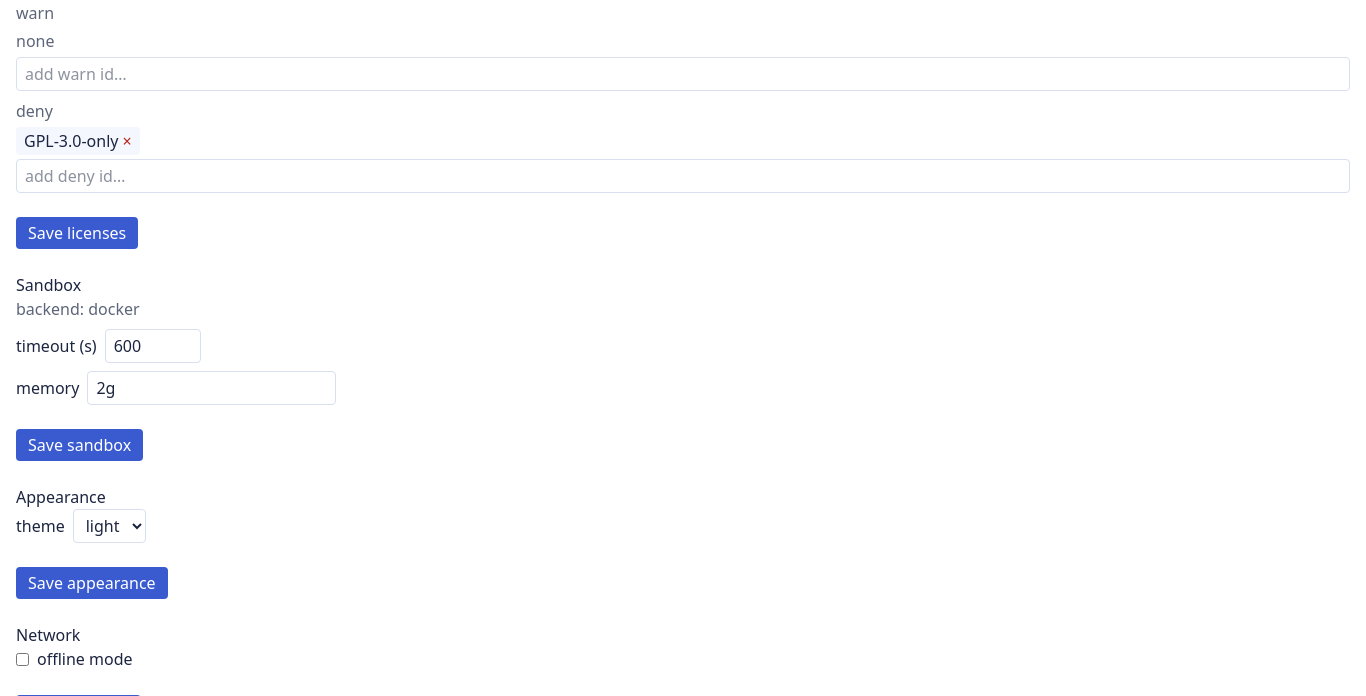
it: SettingsPage › validates
(page scrolled)
Expected: the element named "sandbox settings" is shown, [16,274,336,405]
Replace the text in the number field labelled "timeout" with "-5" at [153, 346], box [105,329,201,363]
(page scrolled)
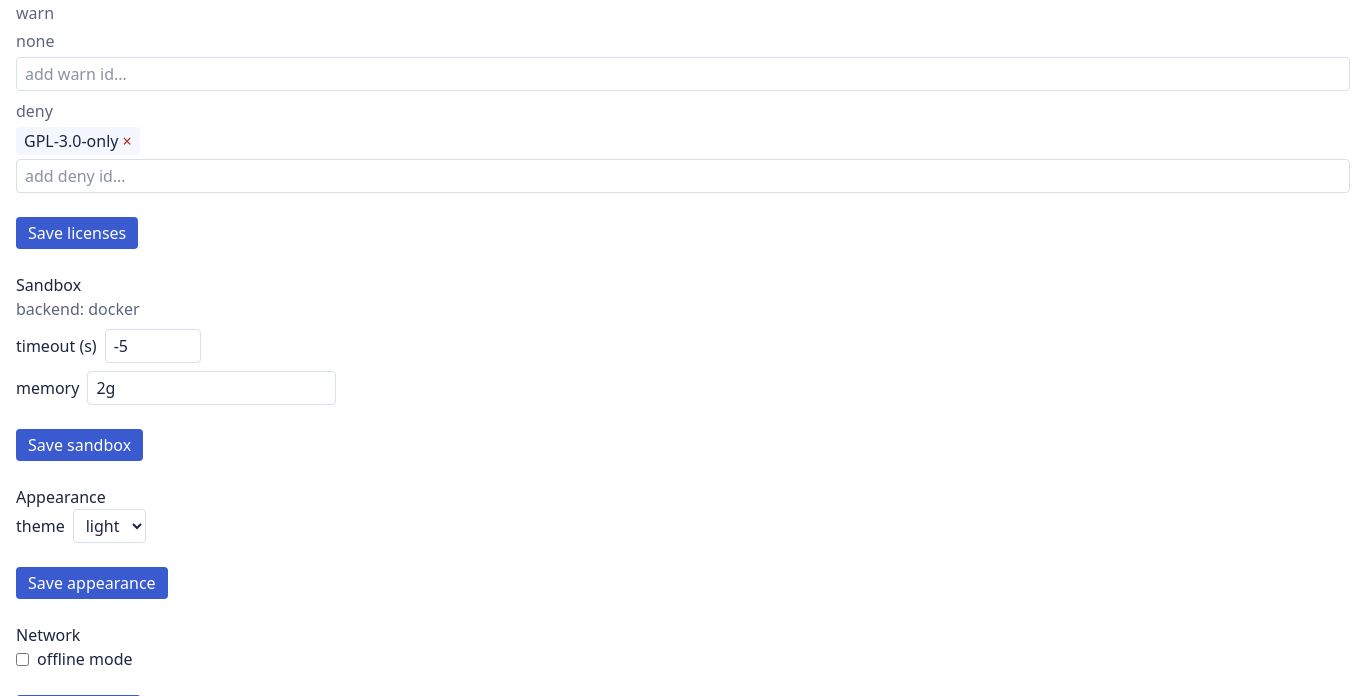
Click the button with test id "save-sandbox" at [80, 445], box [16,429,143,461]
(page scrolled)
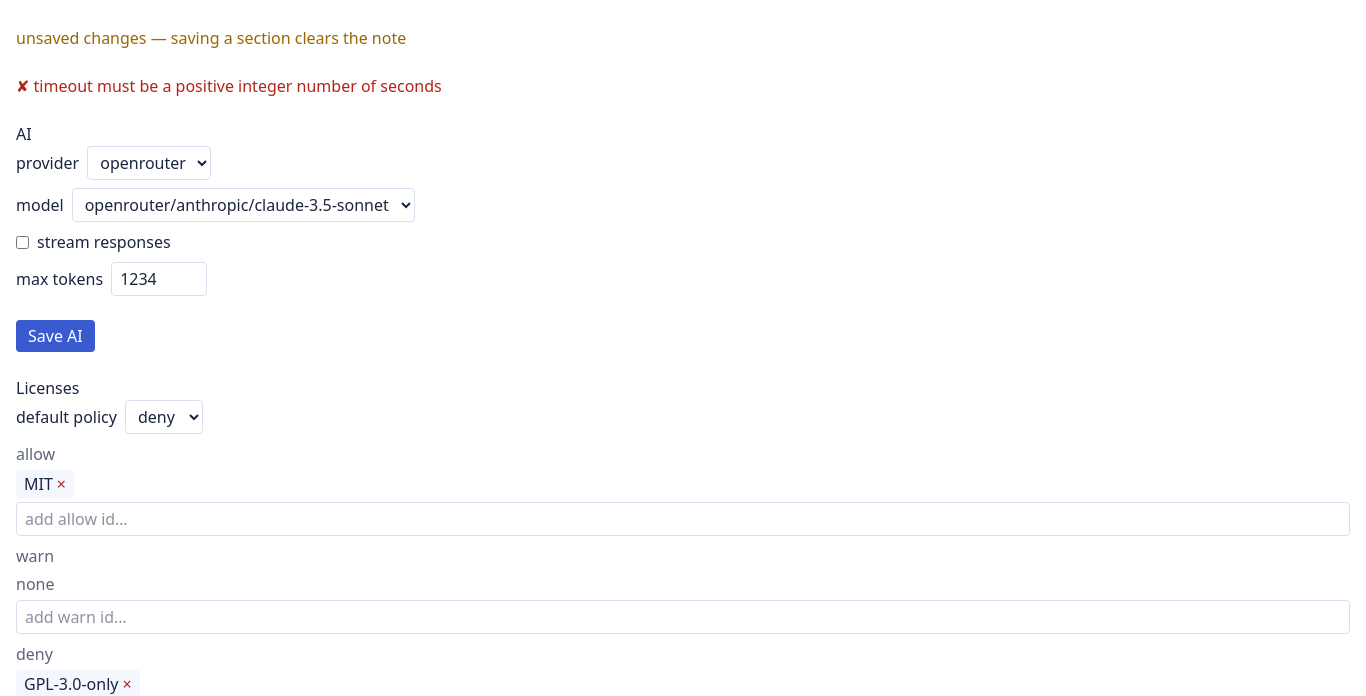
Result: the message "✘ timeout must be a positive integer number of seconds" is shown at [16,75,442,97]
